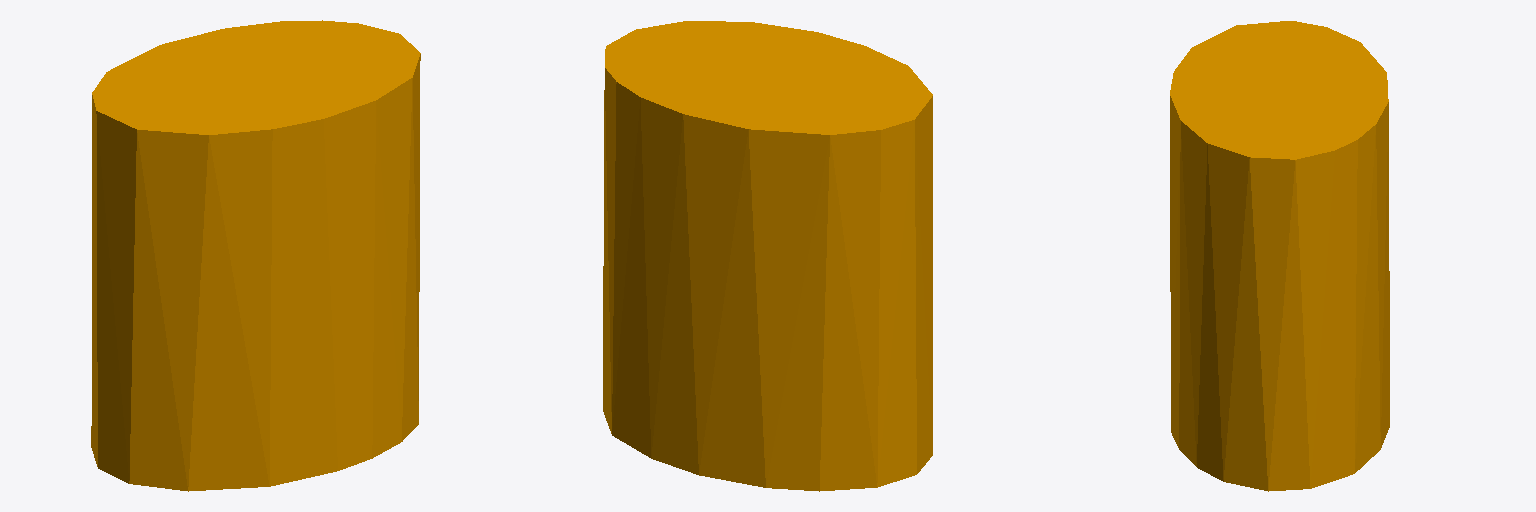
URDF robot description (bipyramid):
<?xml version='1.0' encoding='UTF-8'?>
<robot name="bipyramid">
  <link name="semantic_link">
    <inertial>
      <origin xyz="0.0 0.0 0.0" rpy="0.0 -0.0 0.0"/>
      <mass value="0.001"/>
      <inertia ixx="0.001" ixy="0.0" ixz="0.0" iyy="0.001" iyz="0.0" izz="0.001"/>
    </inertial>
    <visual name="semantic_base_link_visual">
      <geometry>
        <mesh filename="cylinder_60.stl"/>
      </geometry>
    </visual>
    <collision name="semantic_base_link_collision">
      <geometry>
        <mesh filename="cylinder_60.stl"/>
      </geometry>
    </collision>
  </link>
</robot>

--- Facts derived from the render (not from the file) ---
3 views of the same robot in one strip: view 1: azimuth 30°, elevation 25°; view 2: azimuth 150°, elevation 25°; view 3: azimuth 270°, elevation 25° (orthographic).
Robot: bipyramid — 1 links, 0 joints (none); root link semantic_link; default pose: every joint at zero.
Visible links, largest first — view 1: semantic_link; view 2: semantic_link; view 3: semantic_link.
Boxes of the visible links, x1=… form: semantic_link: x1=91, y1=20, x2=420, y2=491; semantic_link: x1=603, y1=21, x2=932, y2=491; semantic_link: x1=1170, y1=21, x2=1389, y2=491.
Bounding box of the posed robot: 0.9029 × 0.6029 × 1 m (x, y, z).
Meshes: 1 distinct files referenced, 1 mesh visuals loaded (1 binary STL).